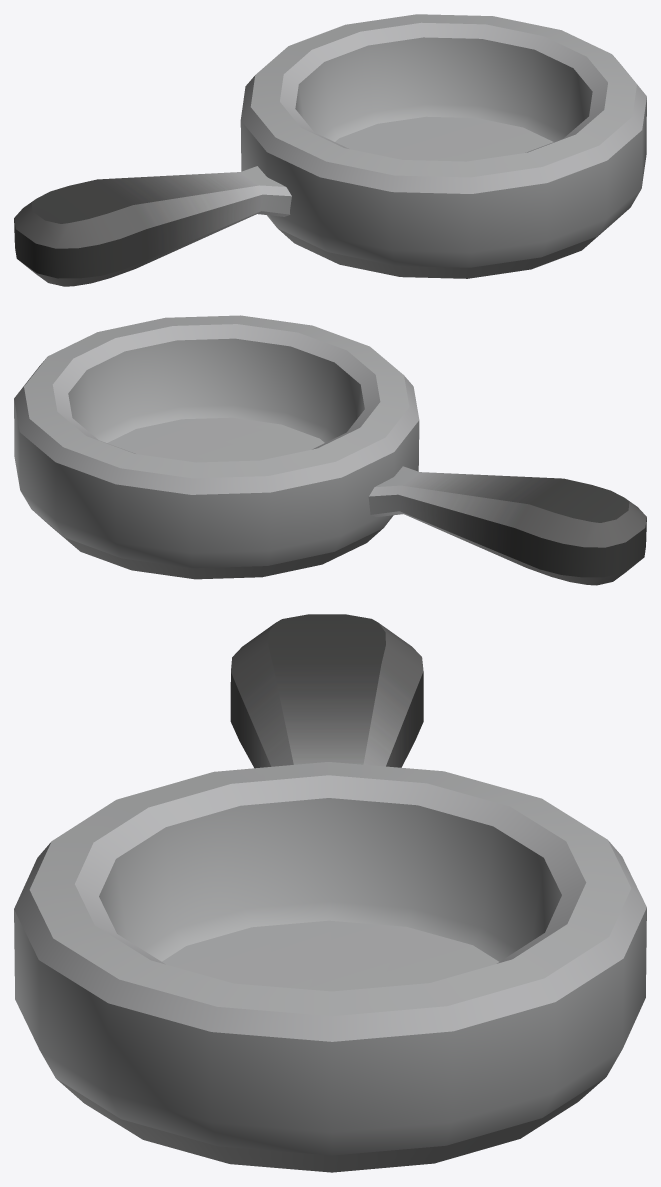
File: Pan_2_B.glb
3 views of the same model, one above another, from view 1: azimuth 30°, elevation 25°; view 2: azimuth 150°, elevation 25°; view 3: azimuth 270°, elevation 25° (orthographic). The views are drawn at different scales.
Visible parts, largest first — view 1: Pan_2_B; view 2: Pan_2_B; view 3: Pan_2_B.
Boxes of the visible parts, x1,y1,x2,y2 form: Pan_2_B: (14,14,646,286); Pan_2_B: (14,315,646,585); Pan_2_B: (14,614,646,1172).
Size of the model in its own units: 0.8175 by 0.1508 by 0.4865.
Materials: 1 (1 with a texture image).
